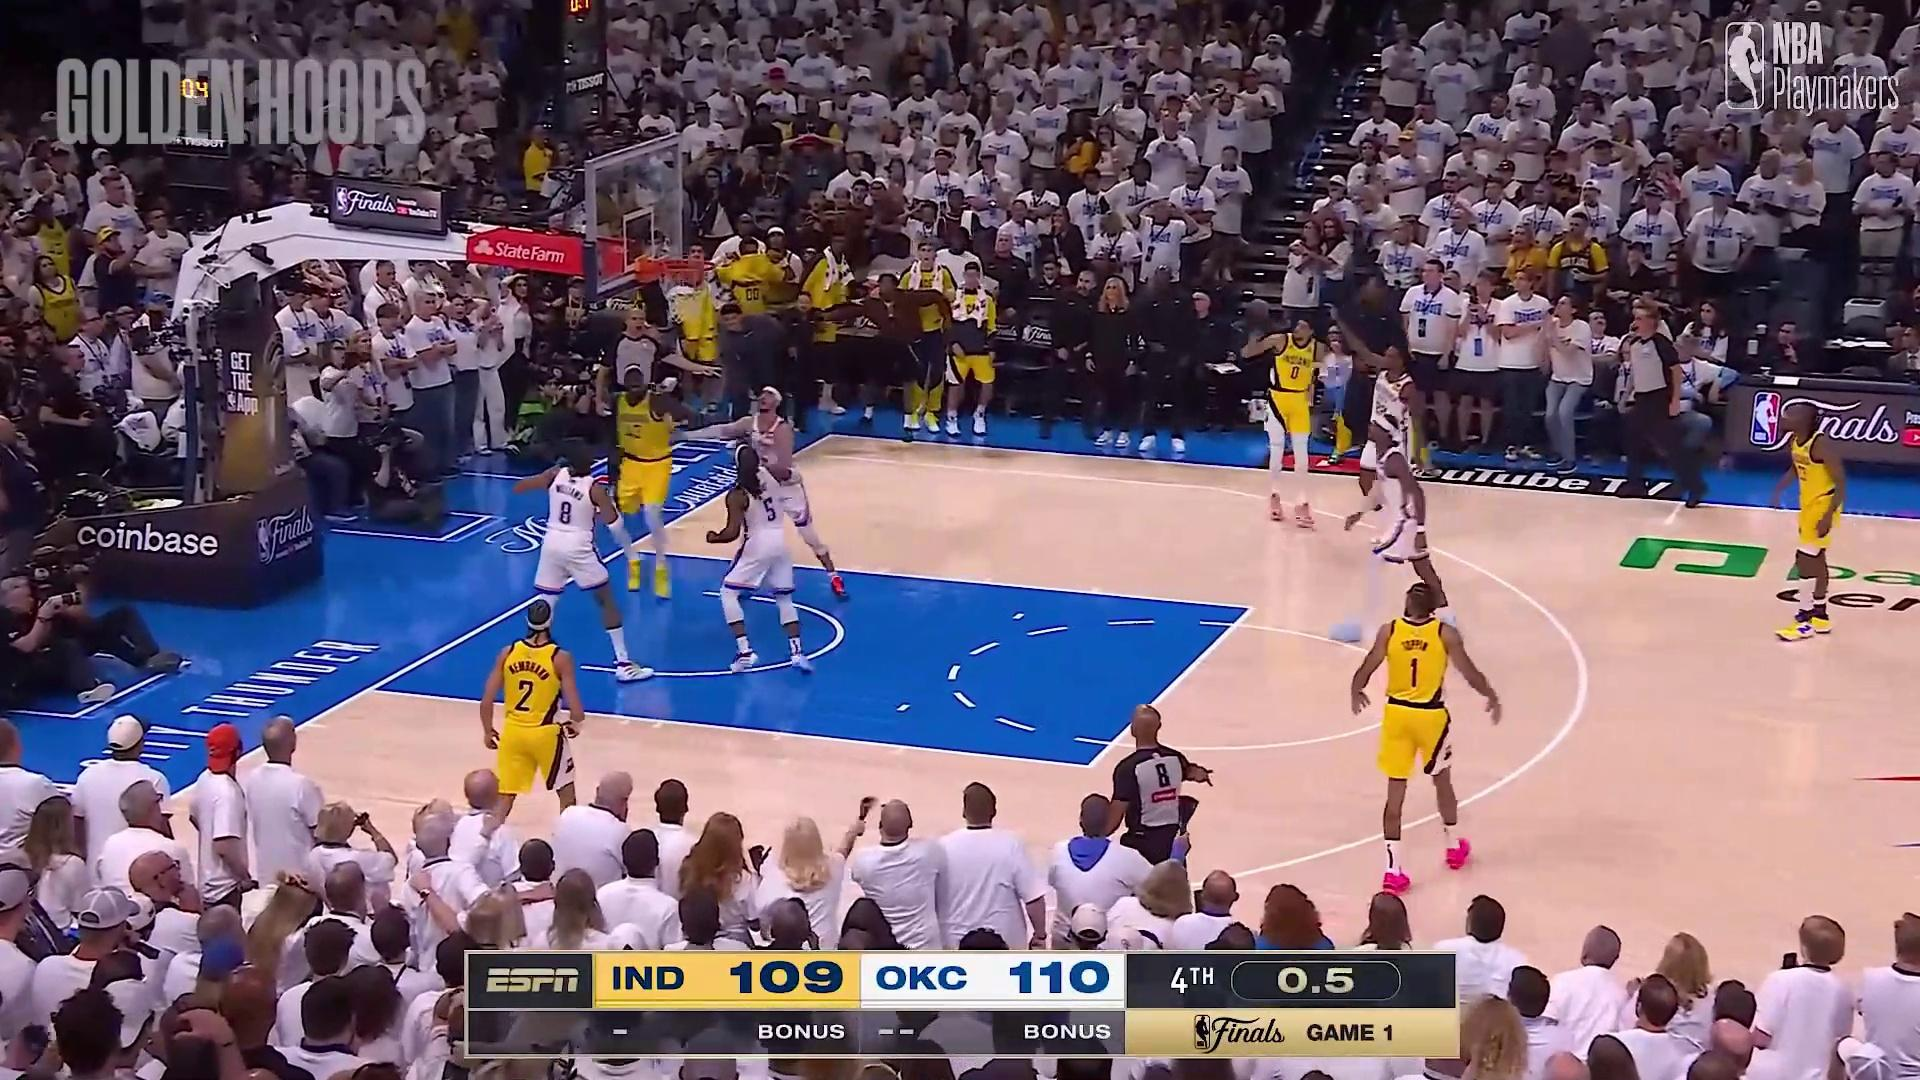hoop: (658, 248, 720, 328)
